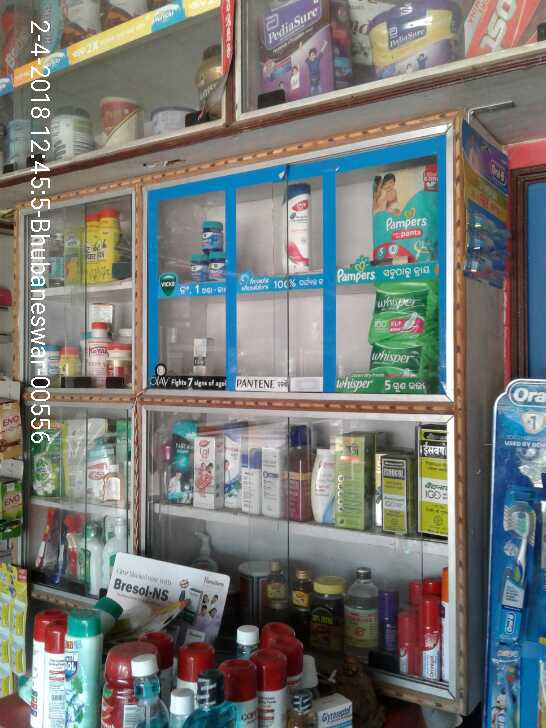oralcare: (497, 492, 527, 648), (492, 656, 528, 728), (132, 656, 167, 728), (195, 670, 233, 728)
vicks: (203, 221, 223, 250), (208, 252, 226, 281), (192, 254, 206, 283)
